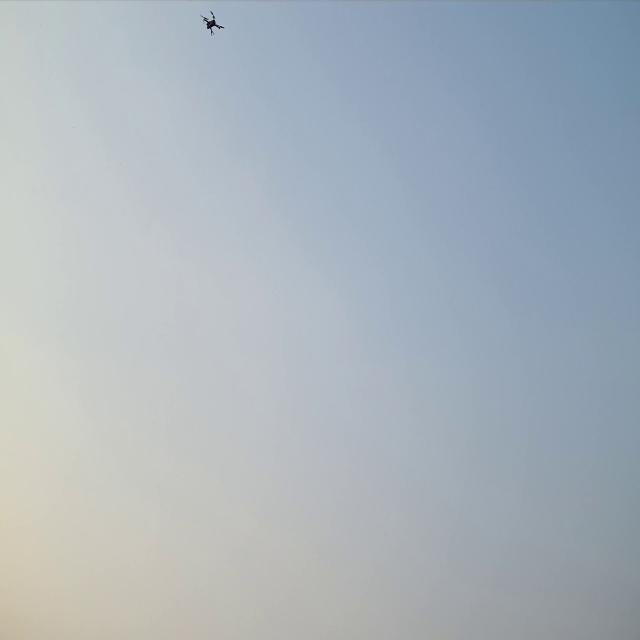UAV: (197, 7, 227, 39)
